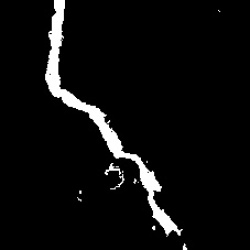crack: (45, 0, 182, 236), (104, 164, 125, 192)
pinhole: (77, 189, 83, 204)
